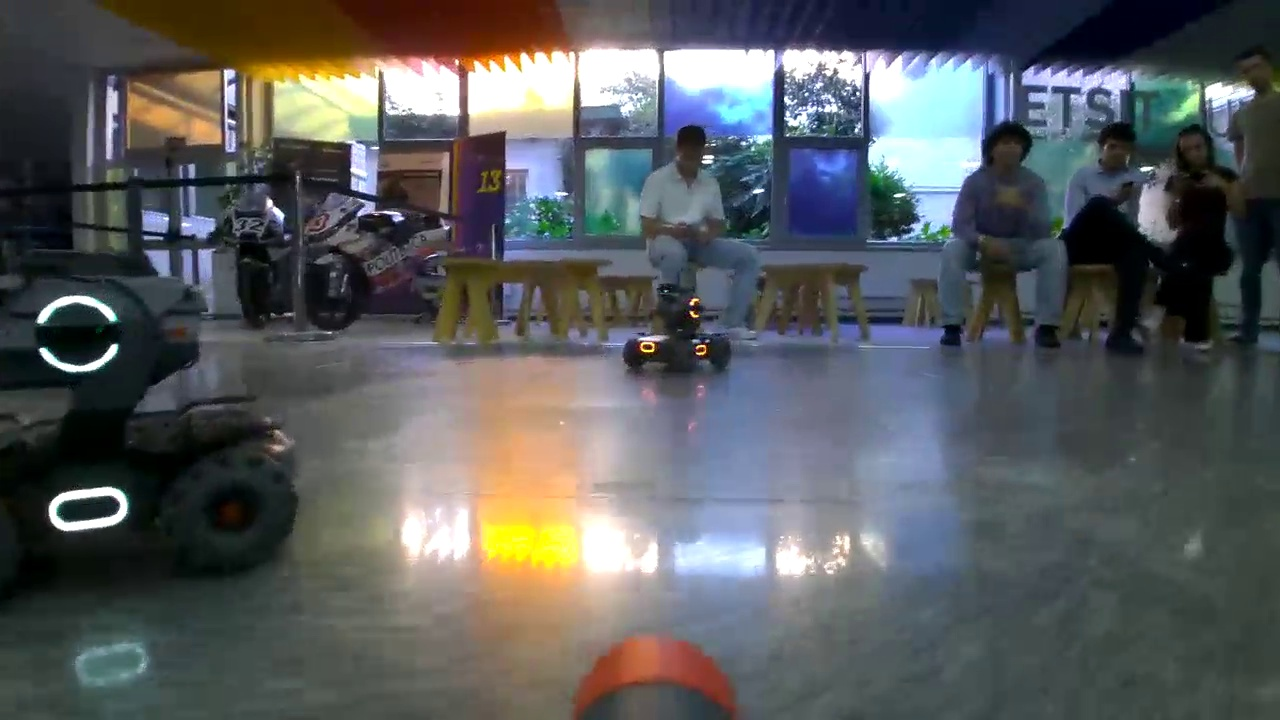robot: (1, 285, 300, 580), (620, 282, 733, 372)
